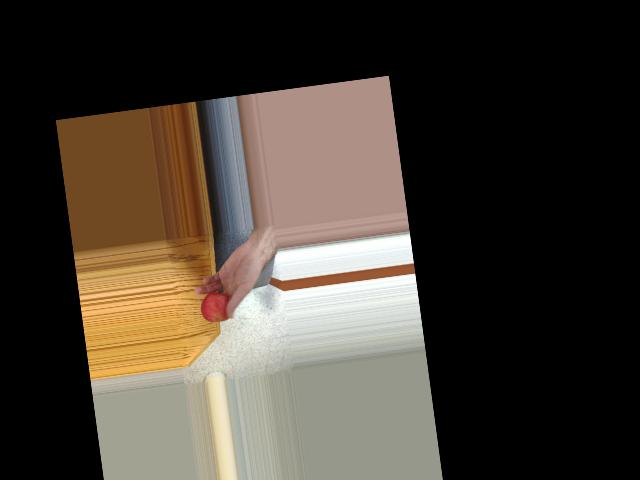apple: (198, 288, 233, 327)
